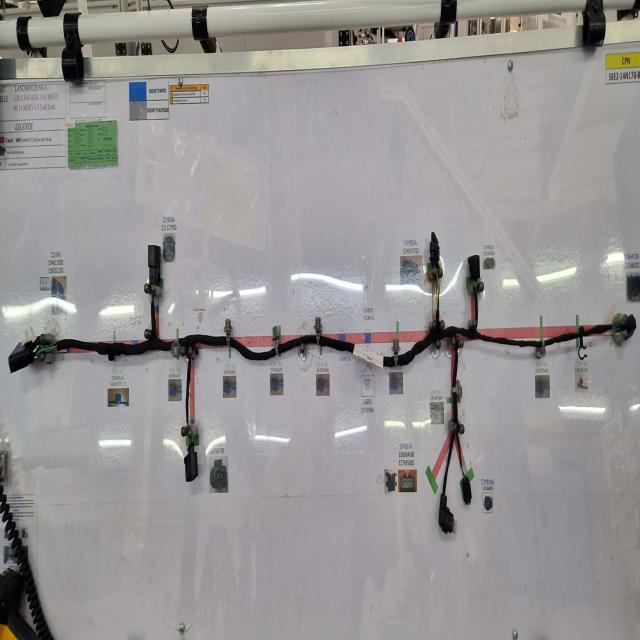Clip: (568, 328, 578, 364), (262, 328, 271, 360), (382, 338, 391, 368), (304, 319, 313, 348), (215, 323, 224, 349), (443, 380, 453, 402), (162, 341, 172, 362), (526, 342, 536, 360), (108, 342, 115, 363)
Connector: (1, 338, 32, 377), (428, 494, 448, 535), (183, 443, 197, 483), (148, 245, 161, 283), (420, 236, 430, 272), (458, 259, 471, 285), (453, 478, 463, 506), (618, 316, 627, 342)
Gape: (423, 267, 433, 314), (32, 339, 58, 355), (603, 324, 618, 337), (450, 468, 458, 480), (142, 289, 147, 307)
MHEV_N11_Cable: (60, 294, 614, 496)
